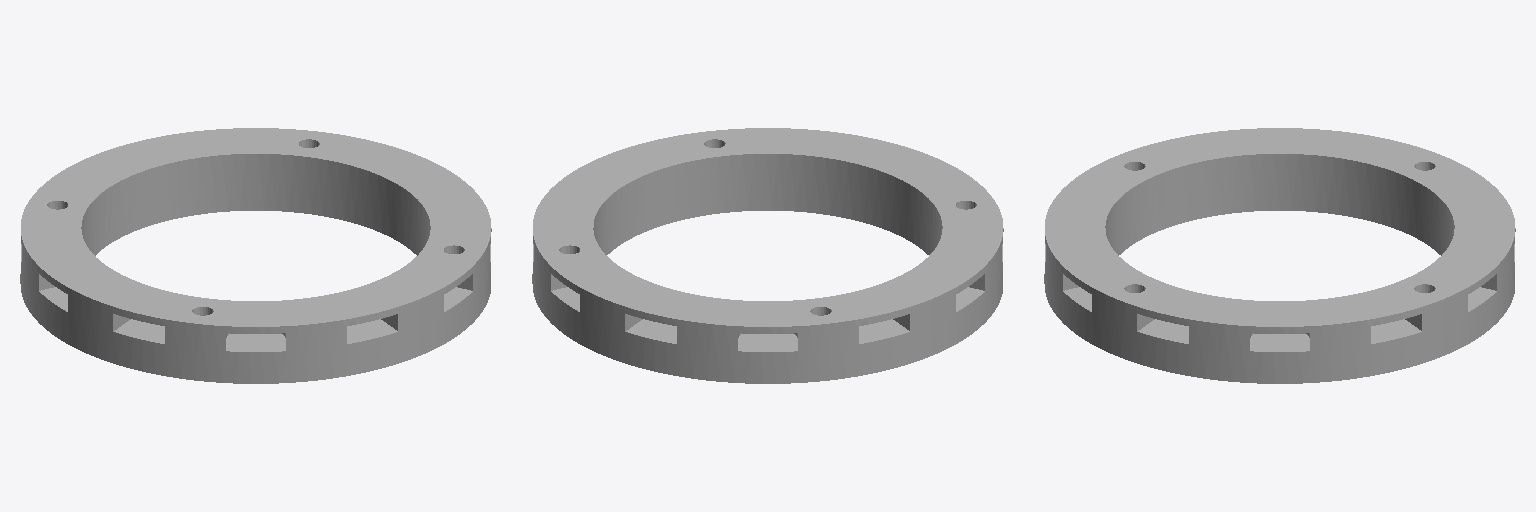
The robot description file, URDF, robot "root":
<?xml version='1.0' encoding='utf-8'?>
<robot name="root">
  <link name="link_001">
    <visual>
      <origin xyz="0 0 0" rpy="0 0 0" />
      <geometry>
        <mesh filename="aebe383e39469c8fc8639a94c0df18d4d59fe57e5df3c5b5f400bfb2ca674091_scale_000.stl" scale="1.0000E+00 1.0000E+00 1.0000E+00" />
      </geometry>
      <material name="">
        <color rgba="7.50E-01 7.50E-01 7.50E-01 1" />
      </material>
    </visual>
    <collision>
      <origin xyz="0 0 0" rpy="0 0 0" />
      <geometry>
        <mesh filename="aebe383e39469c8fc8639a94c0df18d4d59fe57e5df3c5b5f400bfb2ca674091_scale_000.stl" scale="1.0000E+00 1.0000E+00 1.0000E+00" />
      </geometry>
    </collision>
  </link>
</robot>

--- What the picture shows (computed from the rendered views, not written in the file) ---
The picture shows the robot from 3 angles, left to right: view 1: azimuth 30°, elevation 25°; view 2: azimuth 150°, elevation 25°; view 3: azimuth 270°, elevation 25°; orthographic projection.
Model root with 1 links and 0 joints (none), rooted at link_001, posed all joints at 0.
Visible links, largest first — view 1: link_001; view 2: link_001; view 3: link_001.
Link boxes in pixels (x1,y1,x2,y2): link_001: (20,128,491,383); link_001: (532,128,1003,383); link_001: (1044,128,1515,383).
Bounding box of the posed robot: 0.12 × 0.12 × 0.016 m (x, y, z).
1 mesh visuals loaded from 1 distinct referenced files (1 binary STL).
